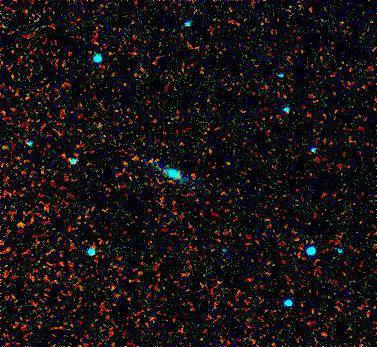star: (213, 148, 243, 178)
